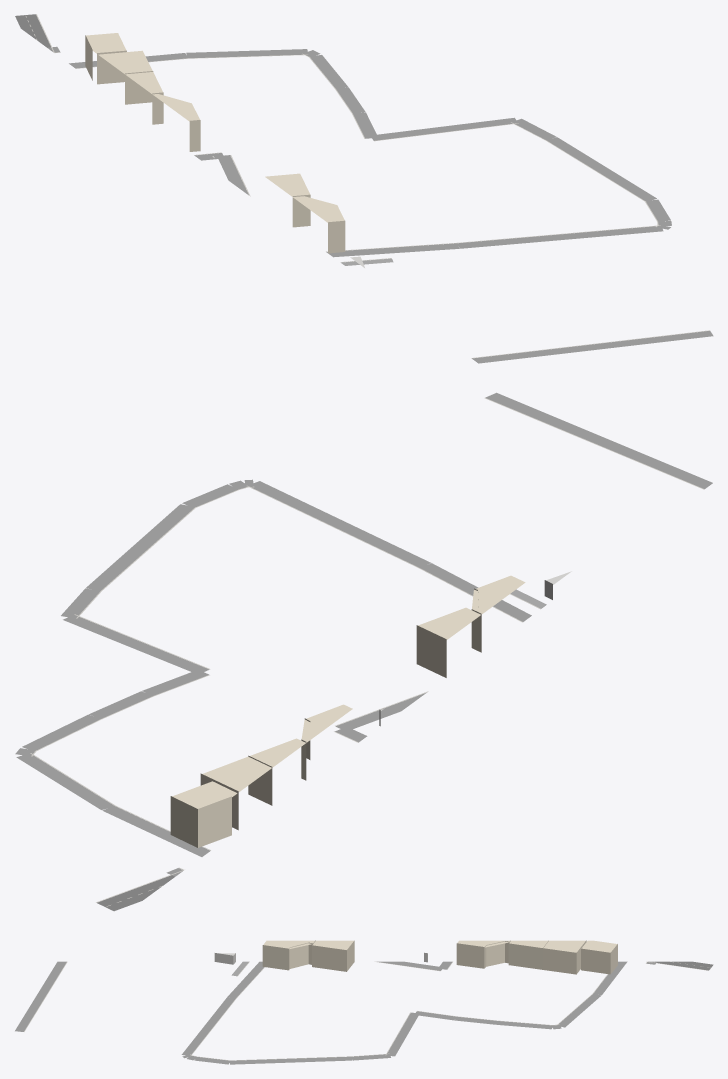
Rendered from chunk_4_0.glb.
The picture shows the model from 3 angles, top to bottom: view 1: azimuth 30°, elevation 25°; view 2: azimuth 150°, elevation 25°; view 3: azimuth 270°, elevation 25°; orthographic projection. The views are drawn at different scales.
Parts seen in each view (by area): view 1: roads_04_04_04, buildings_091_0835_069, roads_kerbs_markings, roads_0267_0267_0267; view 2: roads_04_04_04, buildings_091_0835_069, roads_kerbs_markings, roads_0267_0267_0267; view 3: buildings_091_0835_069, roads_04_04_04, roads_kerbs_markings, roads_0267_0267_0267, buildings_0816_0808_0788.
Boxes of the visible parts, box(x1,y1,x2,y2) form: roads_04_04_04: box(47, 46, 713, 363); buildings_091_0835_069: box(85, 33, 345, 253); roads_kerbs_markings: box(25, 14, 709, 358); roads_0267_0267_0267: box(15, 14, 53, 51); roads_04_04_04: box(15, 392, 712, 876); buildings_091_0835_069: box(170, 575, 525, 847); roads_kerbs_markings: box(30, 398, 704, 906); roads_0267_0267_0267: box(97, 873, 179, 911); buildings_091_0835_069: box(262, 940, 617, 974); roads_04_04_04: box(15, 961, 656, 1064); roads_kerbs_markings: box(24, 961, 710, 1060); roads_0267_0267_0267: box(648, 961, 713, 970); buildings_0816_0808_0788: box(214, 952, 427, 964).
Size of the model in its own units: 157 by 15.45 by 450.
